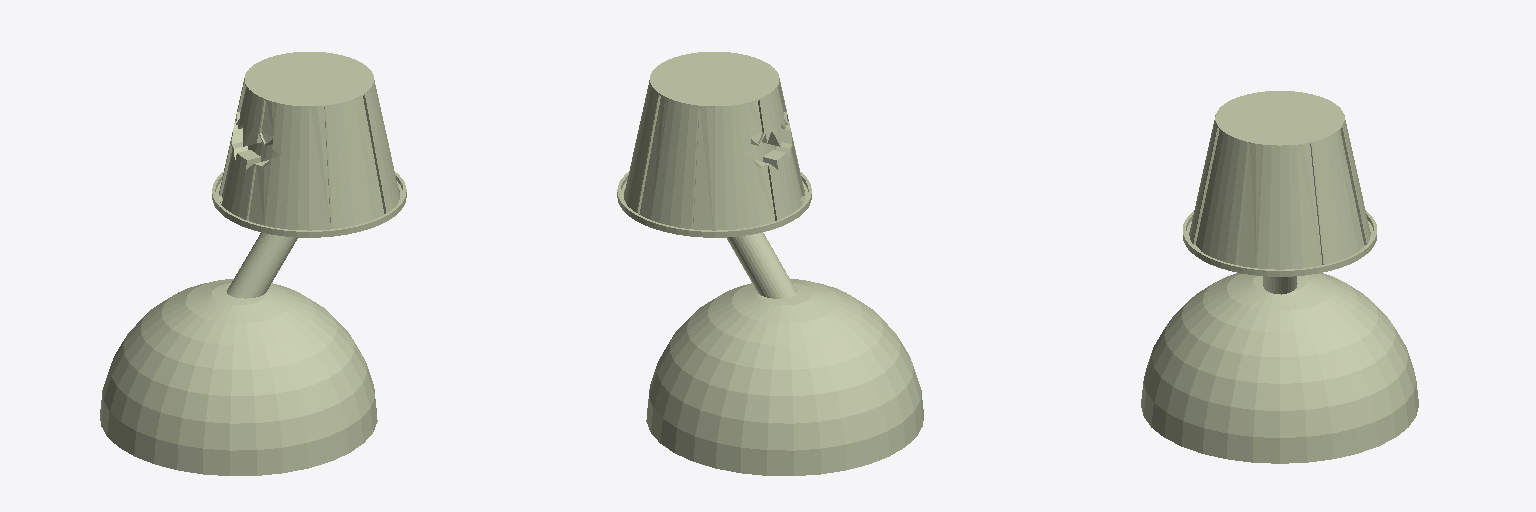
Rendered from hood_ornament_kan.obj.
The picture shows the model from 3 angles: view 1: azimuth 30°, elevation 25°; view 2: azimuth 150°, elevation 25°; view 3: azimuth 270°, elevation 25°; orthographic projection.
Visible parts, largest first — view 1: Sphere; view 2: Sphere; view 3: Sphere.
Boxes of the visible parts, x1,y1,x2,y2 form: Sphere: [100, 52, 406, 475]; Sphere: [617, 52, 923, 475]; Sphere: [1141, 91, 1418, 463].
Size of the model in its own units: 1.13 by 1.28 by 0.9879.